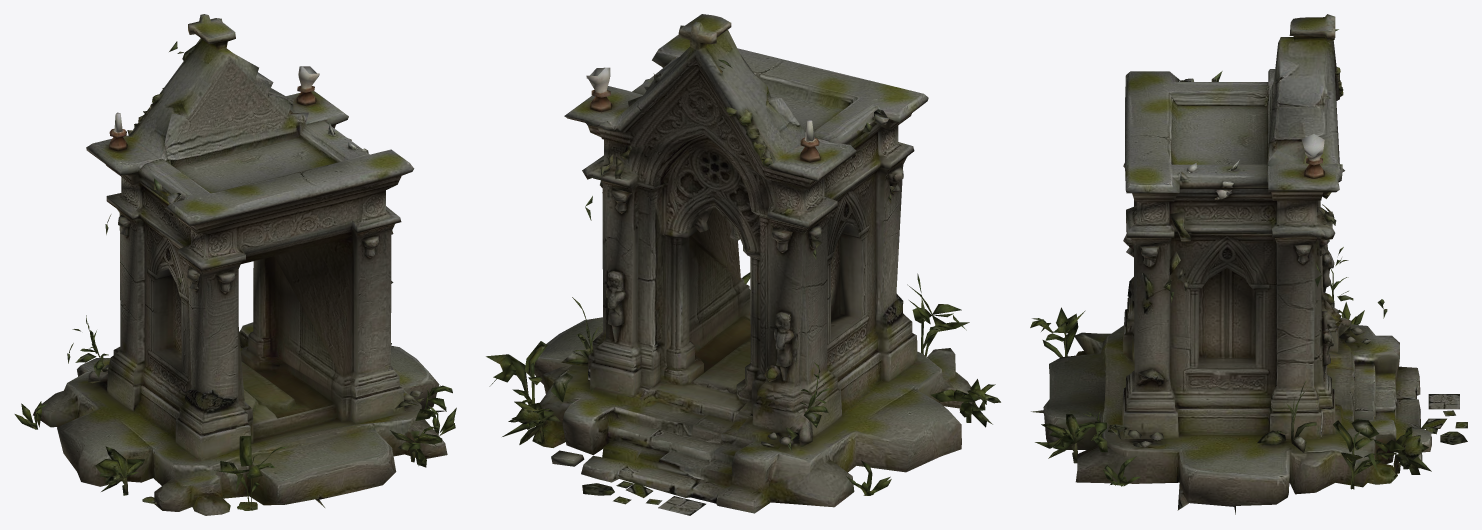
Rendered from hollow_necropolis.glb.
3 renders of one model, left to right at view 1: azimuth 30°, elevation 25°; view 2: azimuth 150°, elevation 25°; view 3: azimuth 270°, elevation 25°, orthographic. The views are drawn at different scales.
Size of the model in its own units: 1.21 by 1.2 by 1.16.
1 material, 1 textured.
